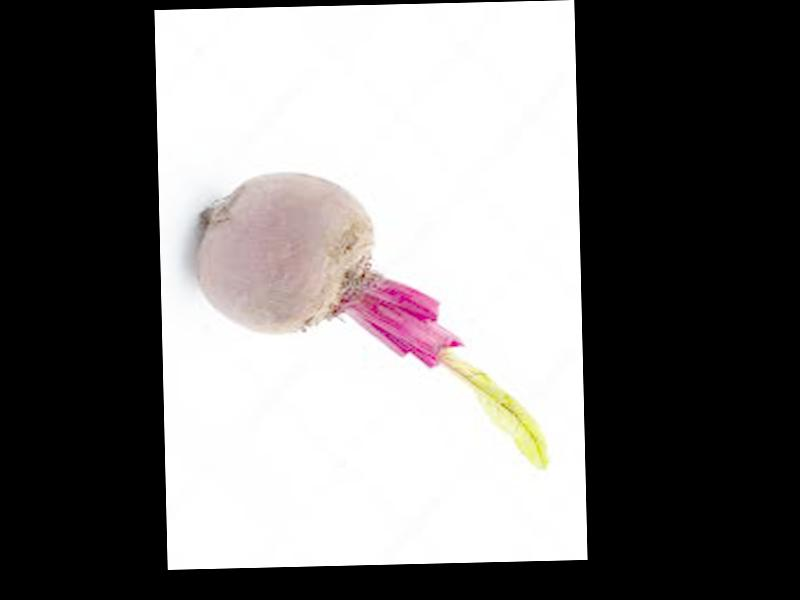Beet: (194, 165, 548, 475)
